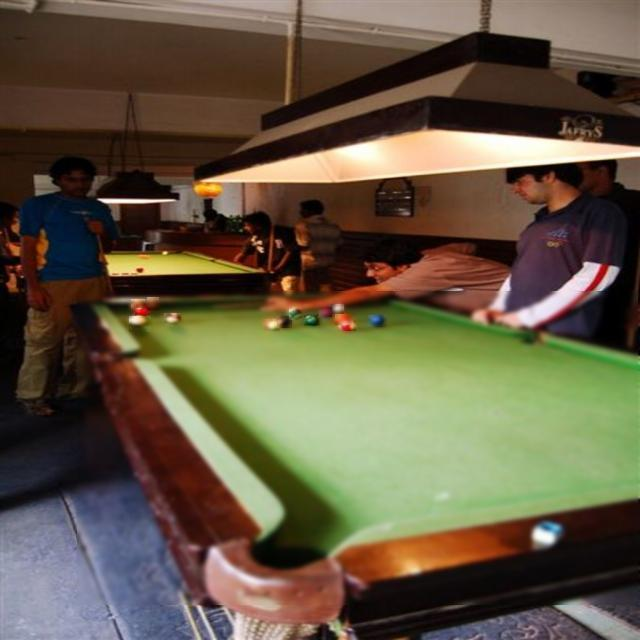Ball: (130, 316, 152, 332), (368, 316, 387, 328), (164, 314, 181, 326), (263, 319, 280, 331), (338, 320, 356, 331), (335, 314, 353, 325), (304, 314, 320, 326), (131, 299, 145, 312), (277, 316, 292, 328), (289, 307, 302, 320), (147, 297, 159, 310), (330, 304, 344, 314), (319, 307, 332, 317), (135, 308, 150, 316)
Billiard table: (77, 291, 638, 605)
